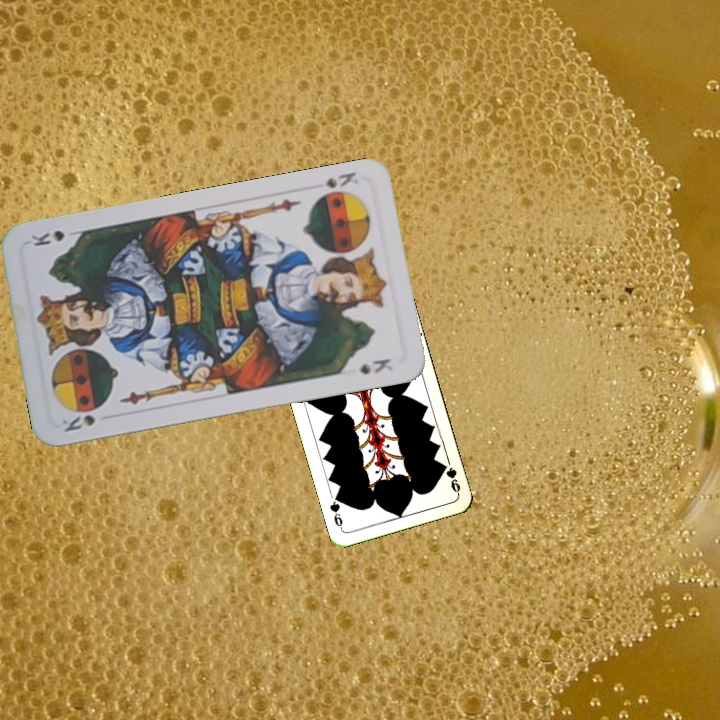G9: (437, 459, 463, 497)
SK: (58, 410, 98, 435), (320, 167, 361, 191)
